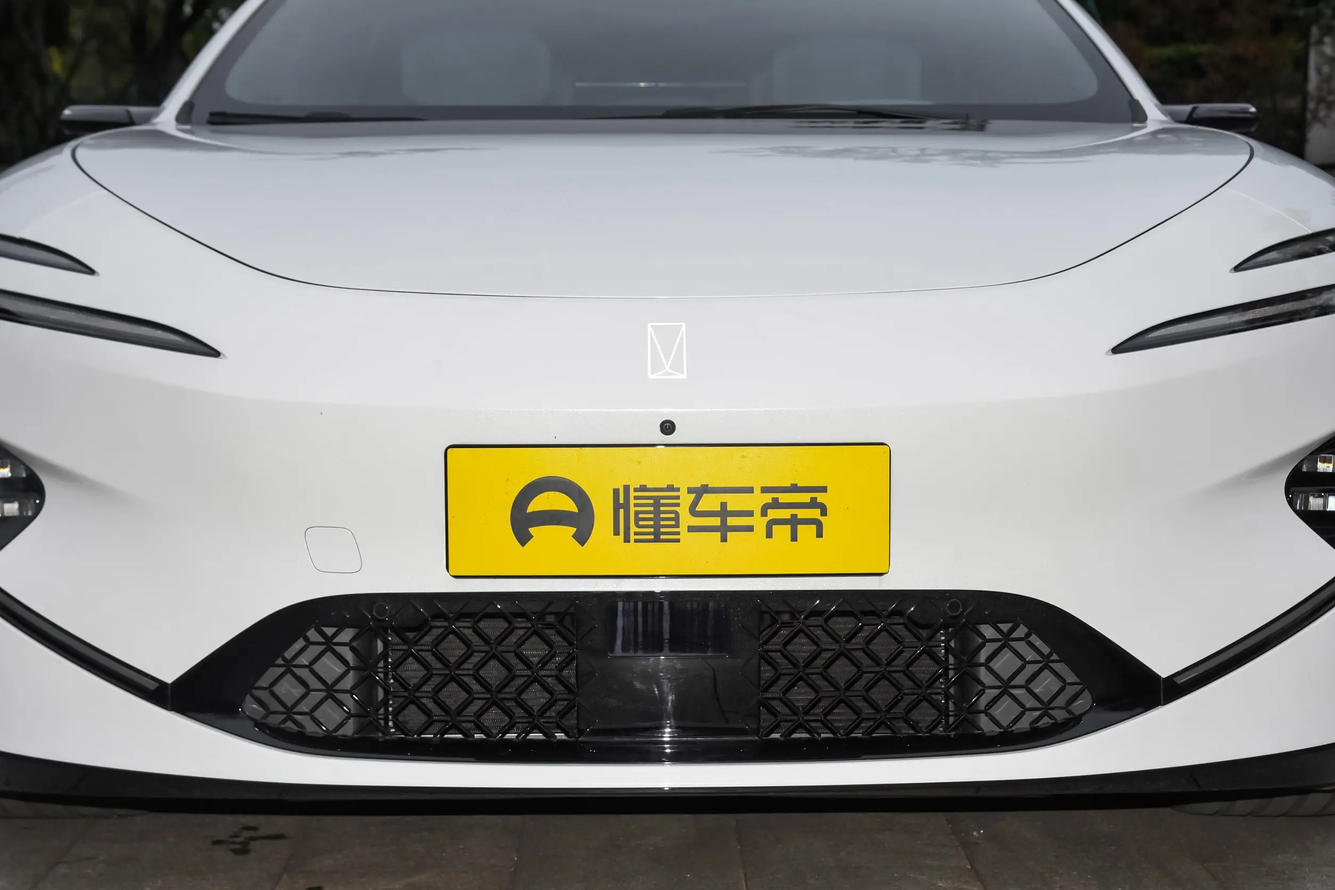AVATR: (648, 323, 687, 378)
